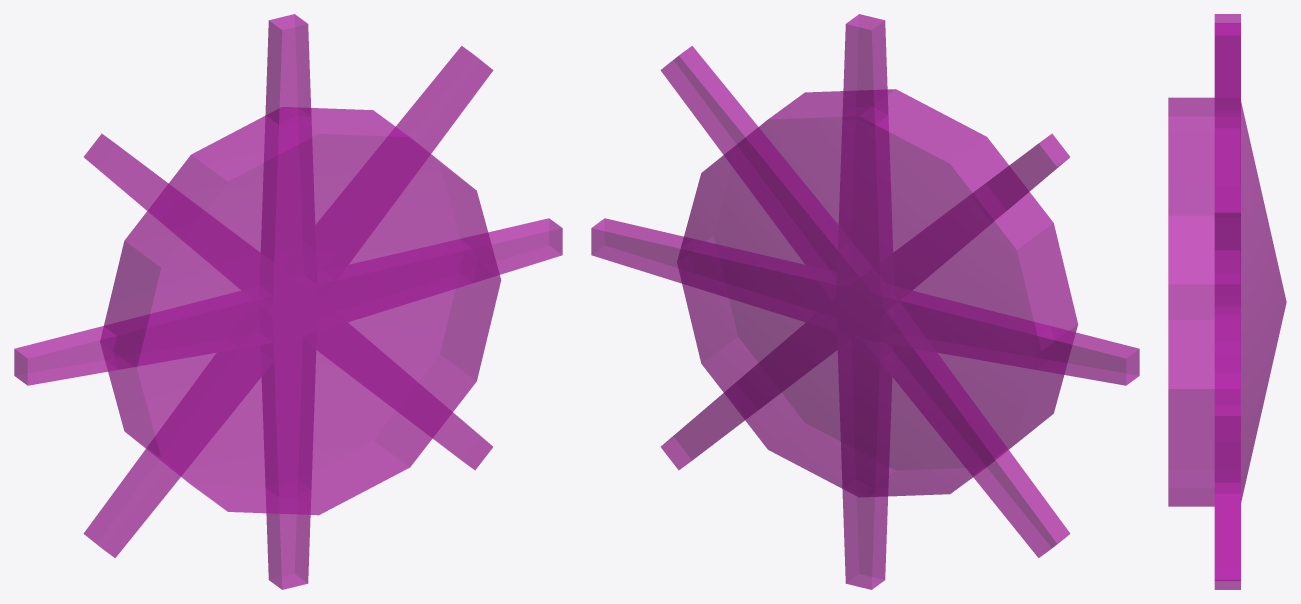
File: SM_Veh_Helm_03_Wheel_01_Collision.fbx
3 renders of one model, left to right at view 1: azimuth 30°, elevation 25°; view 2: azimuth 150°, elevation 25°; view 3: azimuth 270°, elevation 25°, orthographic. The views are drawn at different scales.
Visible parts, largest first — view 1: SM_Veh_Helm_03_Wheel_01_Collision; view 2: SM_Veh_Helm_03_Wheel_01_Collision; view 3: SM_Veh_Helm_03_Wheel_01_Collision.
Part boxes in pixels (left/top/right/bottom): SM_Veh_Helm_03_Wheel_01_Collision: left=14, top=14, right=562, bottom=589; SM_Veh_Helm_03_Wheel_01_Collision: left=591, top=14, right=1139, bottom=589; SM_Veh_Helm_03_Wheel_01_Collision: left=1168, top=14, right=1286, bottom=589.
Size of the model in its own units: 129 by 129 by 25.4.
